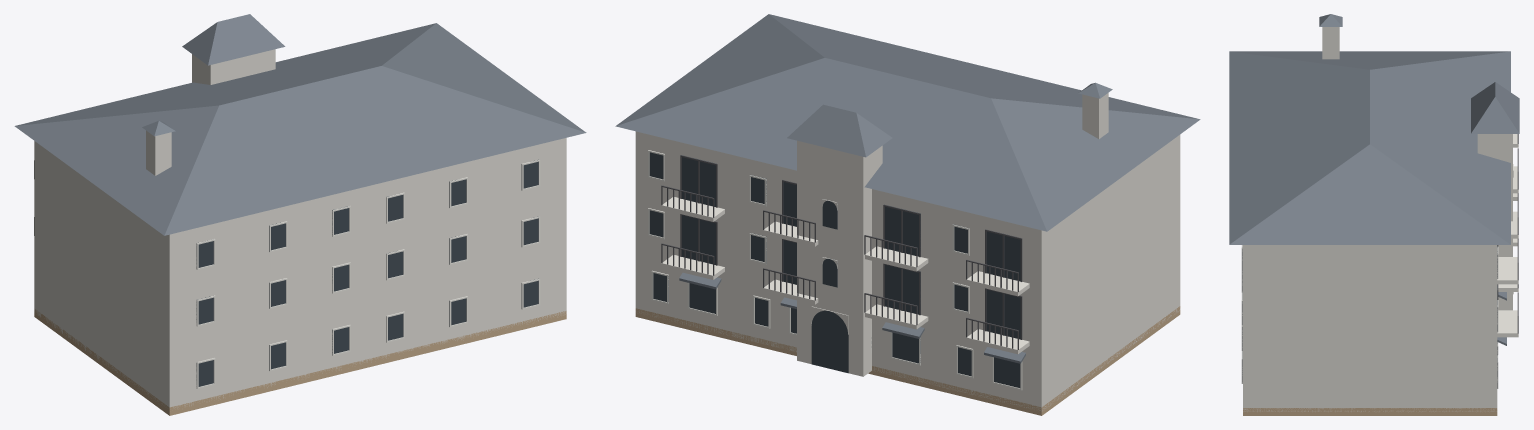
Rendered from ca_apartments3.glb.
The picture shows the model from 3 angles, left to right: view 1: azimuth 30°, elevation 25°; view 2: azimuth 150°, elevation 25°; view 3: azimuth 270°, elevation 25°; orthographic projection. The views are drawn at different scales.
Visible parts, largest first — view 1: ca_apartments3; view 2: ca_apartments3; view 3: ca_apartments3.
Part boxes in pixels (x1,y1,x2,y2): ca_apartments3: (14, 14, 586, 415); ca_apartments3: (615, 14, 1200, 415); ca_apartments3: (1229, 14, 1519, 415).
Size of the model in its own units: 23.4 by 13.35 by 14.85.
